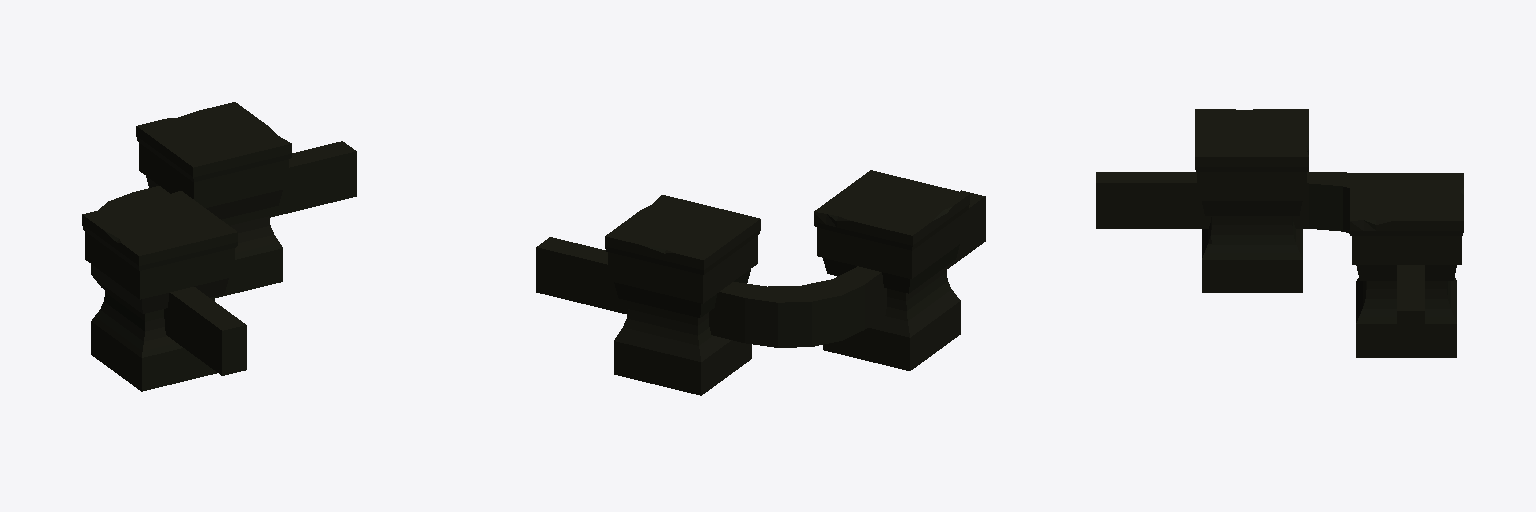
Rendered from Rail_Corner.obj.
The picture shows the model from 3 angles: view 1: azimuth 30°, elevation 25°; view 2: azimuth 150°, elevation 25°; view 3: azimuth 270°, elevation 25°; orthographic projection.
Parts seen in each view (by area): view 1: Rail_Corner_Cylinder.010; view 2: Rail_Corner_Cylinder.010; view 3: Rail_Corner_Cylinder.010.
Part boxes in pixels (x1,y1,x2,y2): Rail_Corner_Cylinder.010: (82, 102, 356, 391); Rail_Corner_Cylinder.010: (536, 170, 985, 395); Rail_Corner_Cylinder.010: (1096, 109, 1463, 357).
Size of the model in its own units: 1.17 by 0.4883 by 1.17.